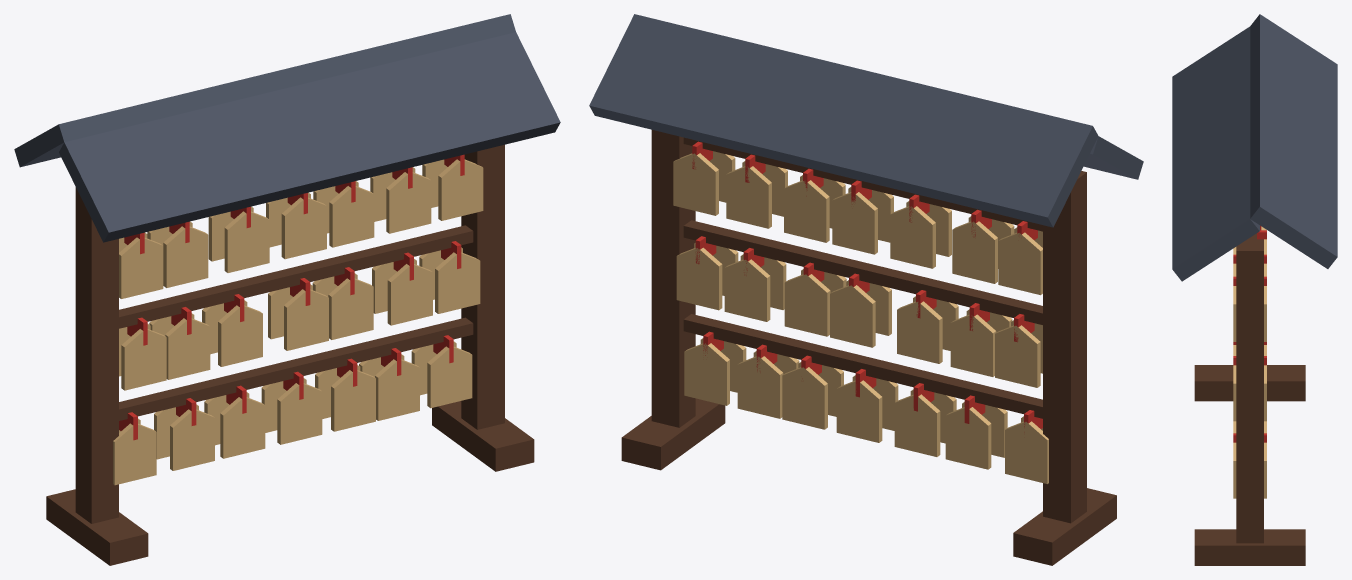
Rendered from ema-rack.glb.
The picture shows the model from 3 angles, left to right: view 1: azimuth 30°, elevation 25°; view 2: azimuth 150°, elevation 25°; view 3: azimuth 270°, elevation 25°; orthographic projection. The views are drawn at different scales.
Visible parts, largest first — view 1: EmaRack_Roof, EmaRack_Ema, EmaRack_Frame, EmaRack_String; view 2: EmaRack_Ema, EmaRack_Roof, EmaRack_Frame, EmaRack_String; view 3: EmaRack_Roof, EmaRack_Frame, EmaRack_Ema, EmaRack_String.
Boxes of the visible parts, x1,y1,x2,y2 form: EmaRack_Roof: (14, 14, 560, 242); EmaRack_Ema: (113, 159, 483, 485); EmaRack_Frame: (46, 144, 534, 565); EmaRack_String: (119, 154, 464, 440); EmaRack_Ema: (673, 151, 1048, 483); EmaRack_Roof: (589, 14, 1143, 227); EmaRack_Frame: (621, 130, 1116, 565); EmaRack_String: (692, 141, 1042, 432); EmaRack_Roof: (1172, 14, 1337, 281); EmaRack_Frame: (1194, 233, 1305, 565); EmaRack_Ema: (1233, 226, 1266, 498); EmaRack_String: (1233, 225, 1266, 442).
Size of the model in its own units: 8.2 by 7.24 by 2.97.
